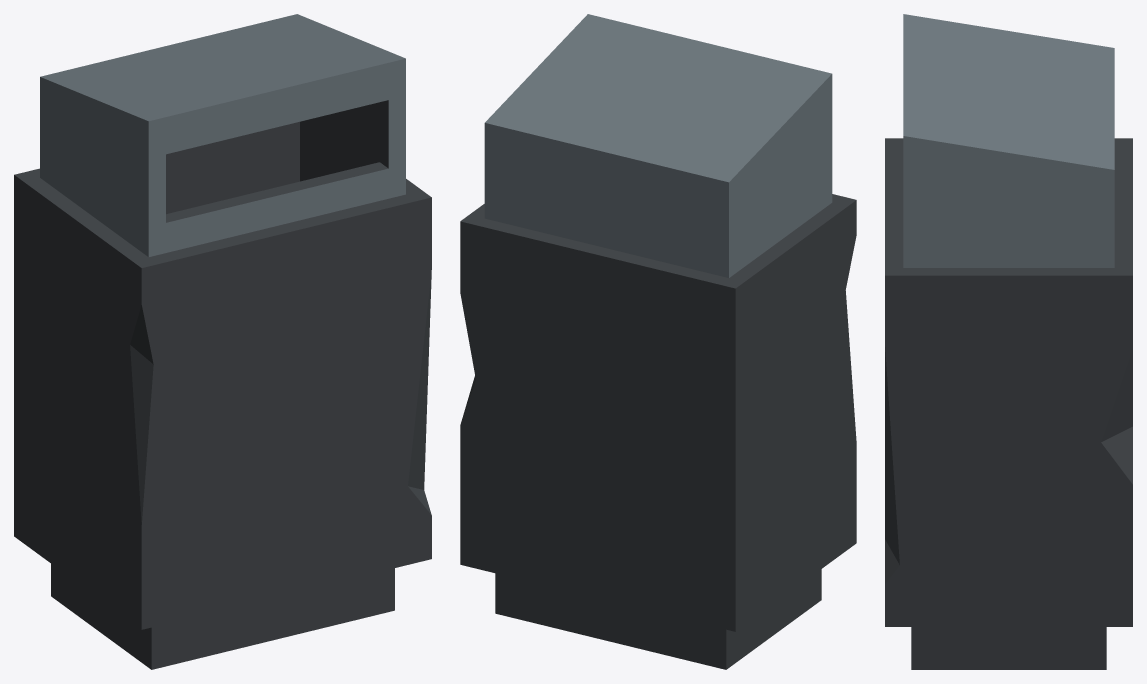
File: TrashBin.obj
3 views of the same model, side by side, from view 1: azimuth 30°, elevation 25°; view 2: azimuth 150°, elevation 25°; view 3: azimuth 270°, elevation 25° (orthographic). The views are drawn at different scales.
Parts seen in each view (by area): view 1: TrashBin; view 2: TrashBin; view 3: TrashBin.
Boxes of the visible parts, left/top/right/bottom form: TrashBin: left=14, top=14, right=431, bottom=669; TrashBin: left=460, top=14, right=856, bottom=669; TrashBin: left=885, top=14, right=1132, bottom=669.
Bounding box in the file's own units: 0.6036 × 1.1 × 0.4599.
Materials: 1 (1 with a texture image).
